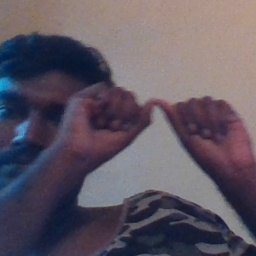A: (100, 80, 217, 164)
